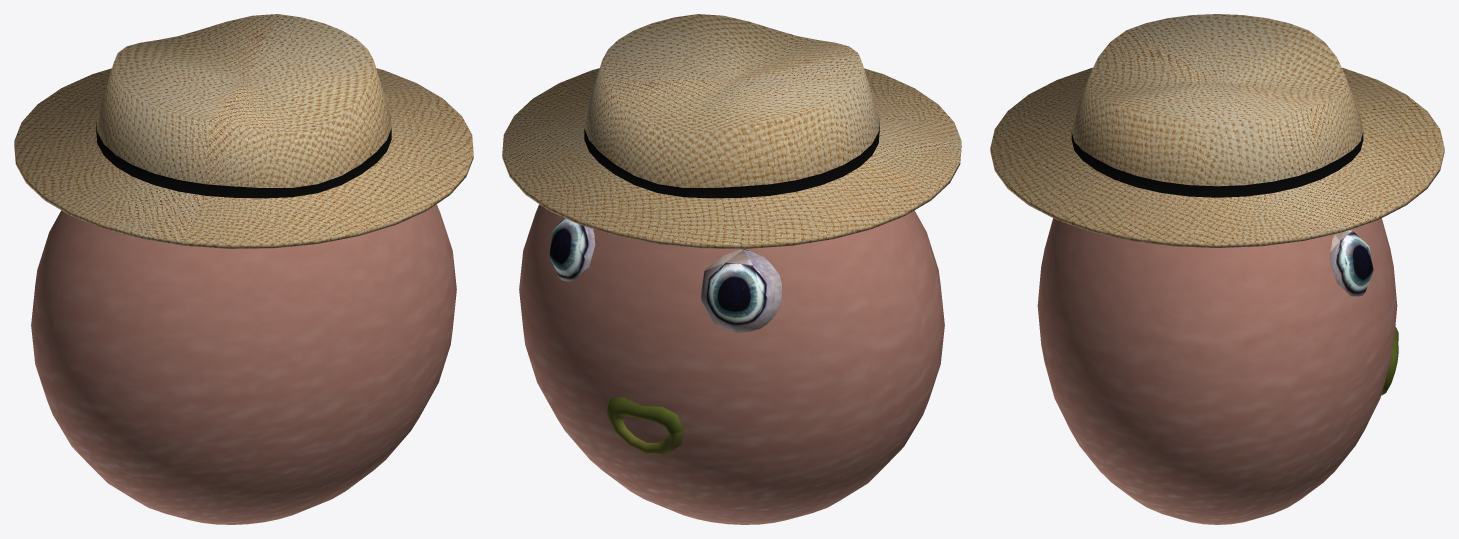
The model's file is Target.glb.
3 views of the same model, side by side, from view 1: azimuth 30°, elevation 25°; view 2: azimuth 150°, elevation 25°; view 3: azimuth 270°, elevation 25° (orthographic).
Parts seen in each view (by area): view 1: Sphere, Cylinder; view 2: Sphere, Cylinder; view 3: Sphere, Cylinder.
Part boxes in pixels (left/top/right/bottom): Sphere: left=31, top=204, right=456, bottom=524; Cylinder: left=14, top=14, right=473, bottom=248; Sphere: left=519, top=204, right=944, bottom=524; Cylinder: left=502, top=14, right=961, bottom=248; Sphere: left=1037, top=218, right=1398, bottom=524; Cylinder: left=990, top=14, right=1444, bottom=247.
Size of the model in its own units: 0.8292 by 0.8785 by 0.8292.
Materials: 4 (3 with a texture image).
